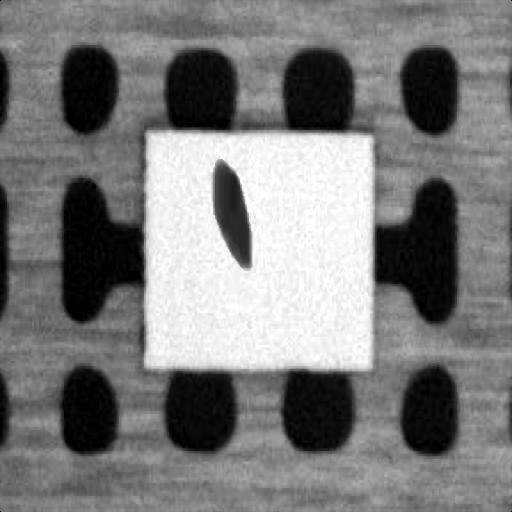DIE_INK: (302, 96, 382, 187)
